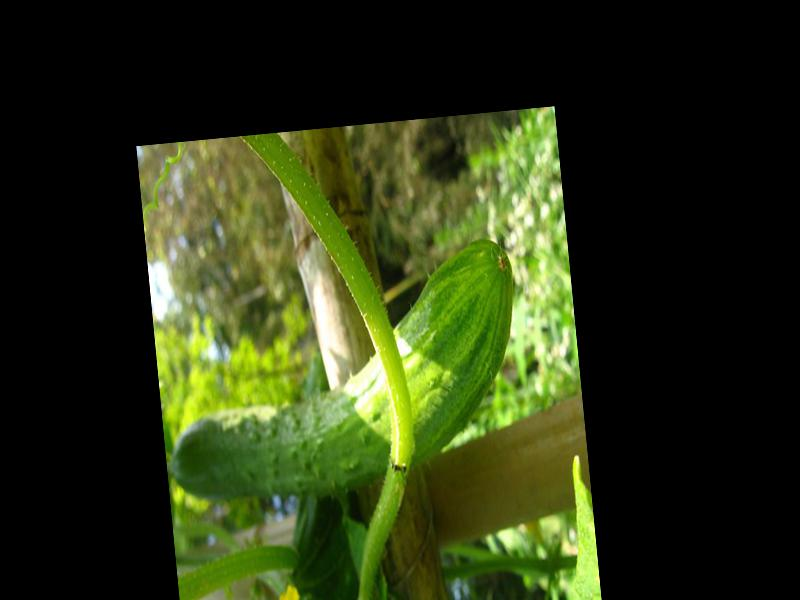Cucumber: (151, 239, 531, 507)
